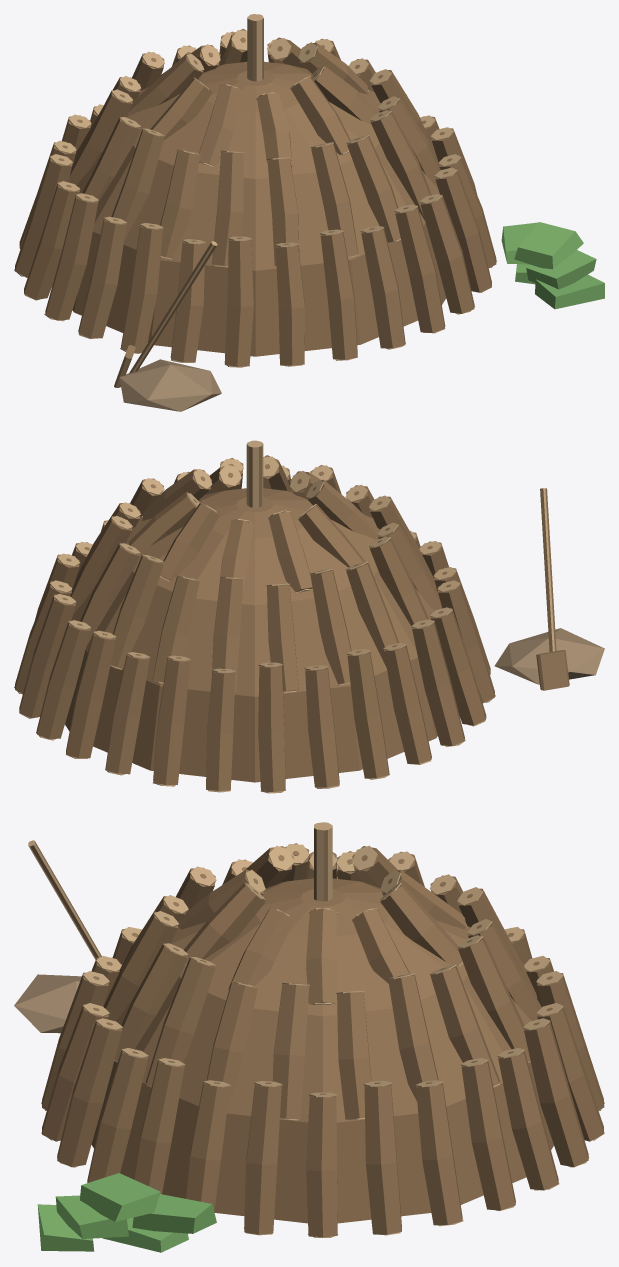
File: w3d_charcoal_clamp_idle.glb
The picture shows the model from 3 angles, top to bottom: view 1: azimuth 30°, elevation 25°; view 2: azimuth 150°, elevation 25°; view 3: azimuth 270°, elevation 25°; orthographic projection. The views are drawn at different scales.
Visible parts, largest first — view 1: w3d_charcoal_clamp_idle; view 2: w3d_charcoal_clamp_idle; view 3: w3d_charcoal_clamp_idle.
Boxes of the visible parts, x1,y1,x2,y2 form: w3d_charcoal_clamp_idle: [14, 14, 604, 411]; w3d_charcoal_clamp_idle: [14, 440, 604, 793]; w3d_charcoal_clamp_idle: [14, 822, 604, 1252].
Size of the model in its own units: 2.89 by 1.45 by 2.64.
